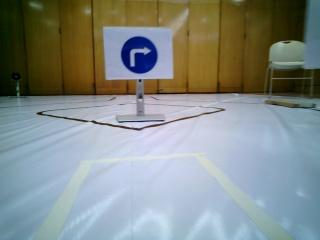right: (105, 26, 175, 79)
